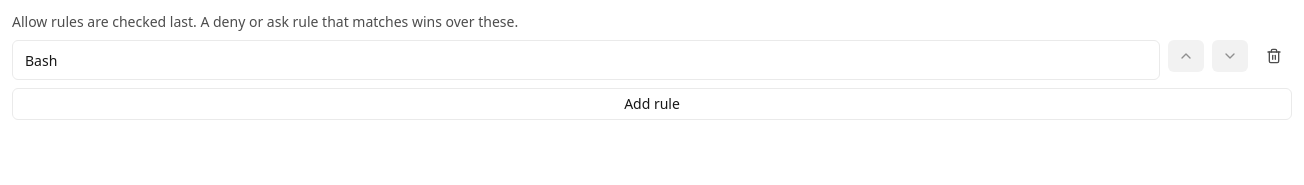
Test: PermissionRulesControl › submits a JSON array, dropping blank rules
This screenshot has width=1304, height=185.
What coordinates should you click on to do the following:
click the button "Add rule"
I would click on:
 (652, 104)
Its box is [12,88,1292,120].
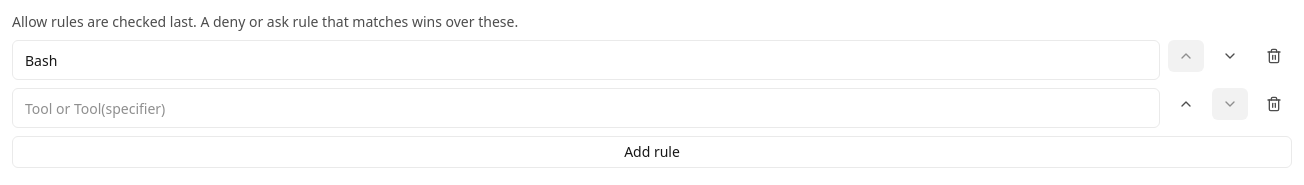
Now the number of fields is 2, box [12,40,1160,80]; [12,88,1160,128]
